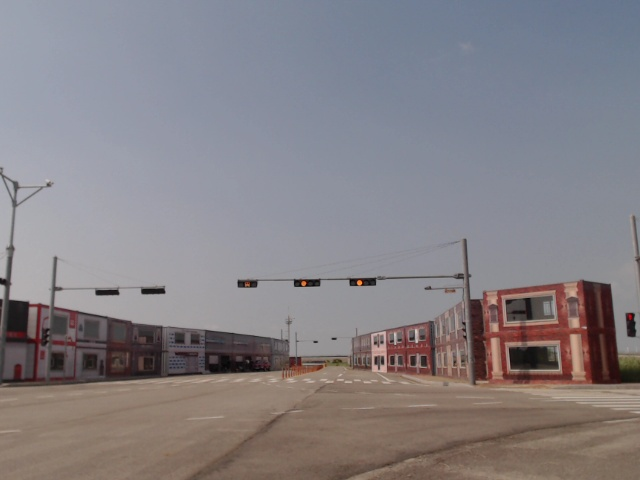orange_4: (347, 278, 379, 288), (292, 278, 321, 288)
